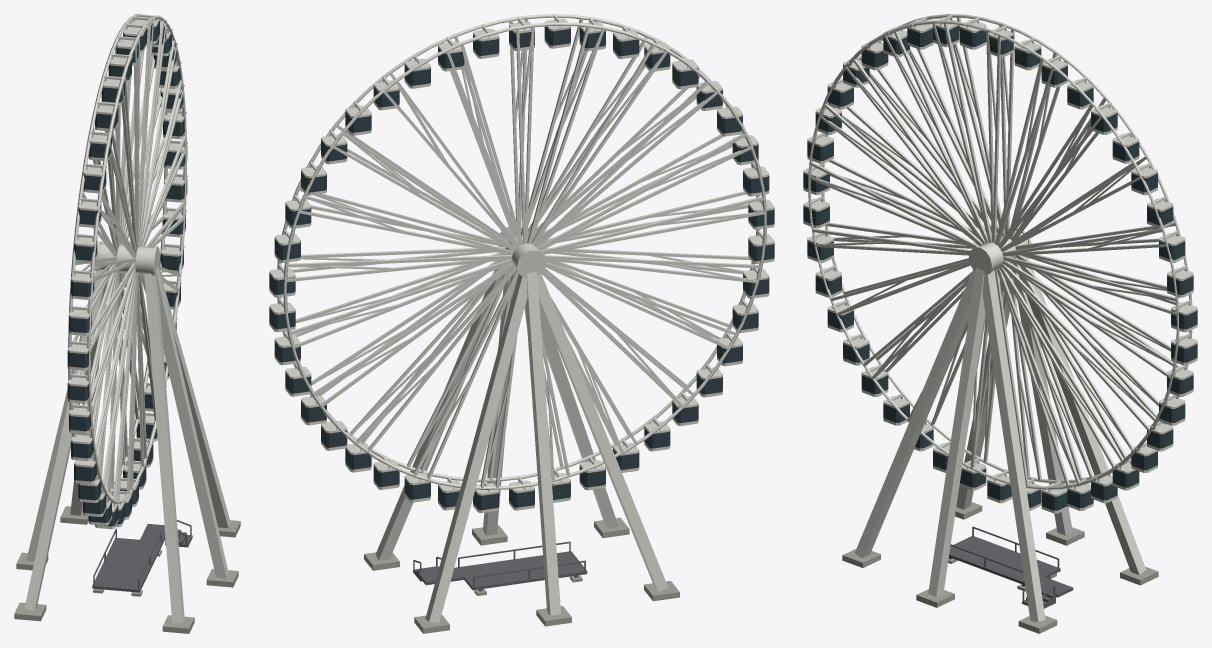
File: skyview-atlanta-far.glb
The picture shows the model from 3 angles, left to right: view 1: azimuth 30°, elevation 25°; view 2: azimuth 150°, elevation 25°; view 3: azimuth 270°, elevation 25°; orthographic projection. The views are drawn at different scales.
Parts seen in each view (by area): view 1: skyview-atlanta-0-lattice, skyview-atlanta-0-glass, skyview-atlanta-0-iron, skyview-atlanta-0-concrete; view 2: skyview-atlanta-0-lattice, skyview-atlanta-0-glass, skyview-atlanta-0-iron, skyview-atlanta-0-concrete; view 3: skyview-atlanta-0-lattice, skyview-atlanta-0-glass, skyview-atlanta-0-iron, skyview-atlanta-0-concrete.
Part boxes in pixels (x1,y1,x2,y2): skyview-atlanta-0-lattice: (24,14,230,623); skyview-atlanta-0-glass: (67,20,187,526); skyview-atlanta-0-iron: (92,520,192,592); skyview-atlanta-0-concrete: (14,506,240,633); skyview-atlanta-0-lattice: (269,14,774,622); skyview-atlanta-0-glass: (269,26,774,510); skyview-atlanta-0-iron: (413,541,587,591); skyview-atlanta-0-concrete: (364,517,679,633); skyview-atlanta-0-lattice: (803,14,1197,621); skyview-atlanta-0-glass: (803,25,1197,510); skyview-atlanta-0-iron: (948,526,1073,608); skyview-atlanta-0-concrete: (842,502,1158,633).
Size of the model in its own units: 35.82 by 60.95 by 40.25.
